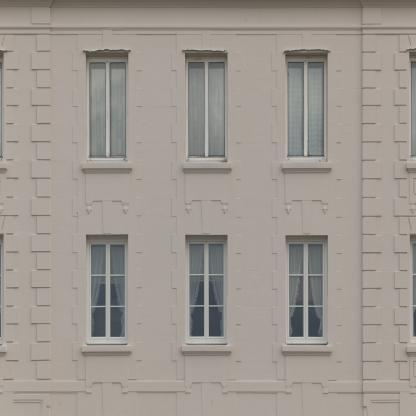Building Outline: (0, 0, 415, 415)
Facade: (0, 0, 415, 415)
Floor: (0, 1, 416, 210), (0, 223, 416, 402)
Floor Slab: (0, 209, 416, 223), (0, 402, 415, 416)
Sill: (82, 162, 132, 174), (82, 346, 133, 357), (281, 162, 332, 173), (282, 346, 332, 357), (182, 346, 232, 357), (182, 162, 232, 173)
Window: (285, 235, 327, 345), (86, 235, 128, 345), (186, 235, 227, 345), (286, 53, 327, 161), (87, 53, 128, 161), (186, 53, 227, 161)
